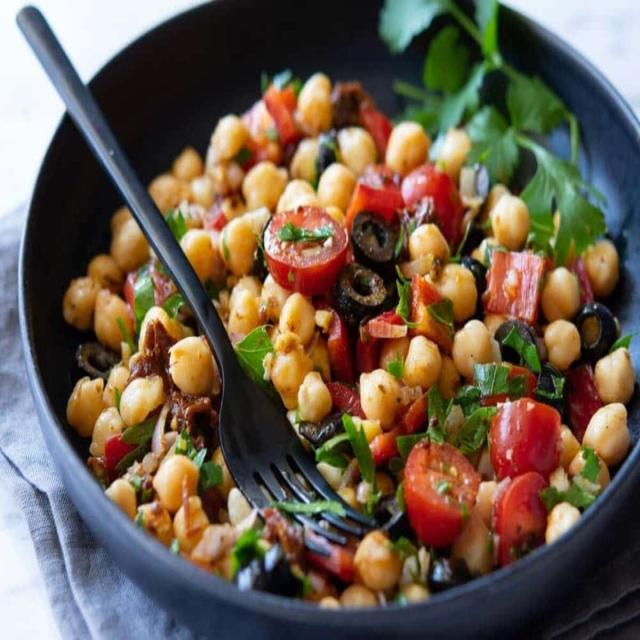garbanzos: (48, 33, 628, 599)
